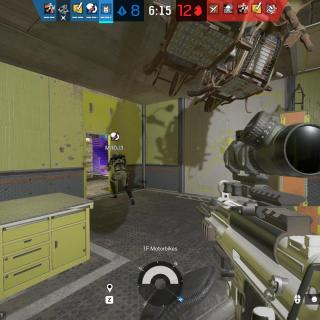Character: (100, 151, 136, 206)
Friend_label: (105, 132, 125, 150)
Head: (110, 150, 118, 157)
